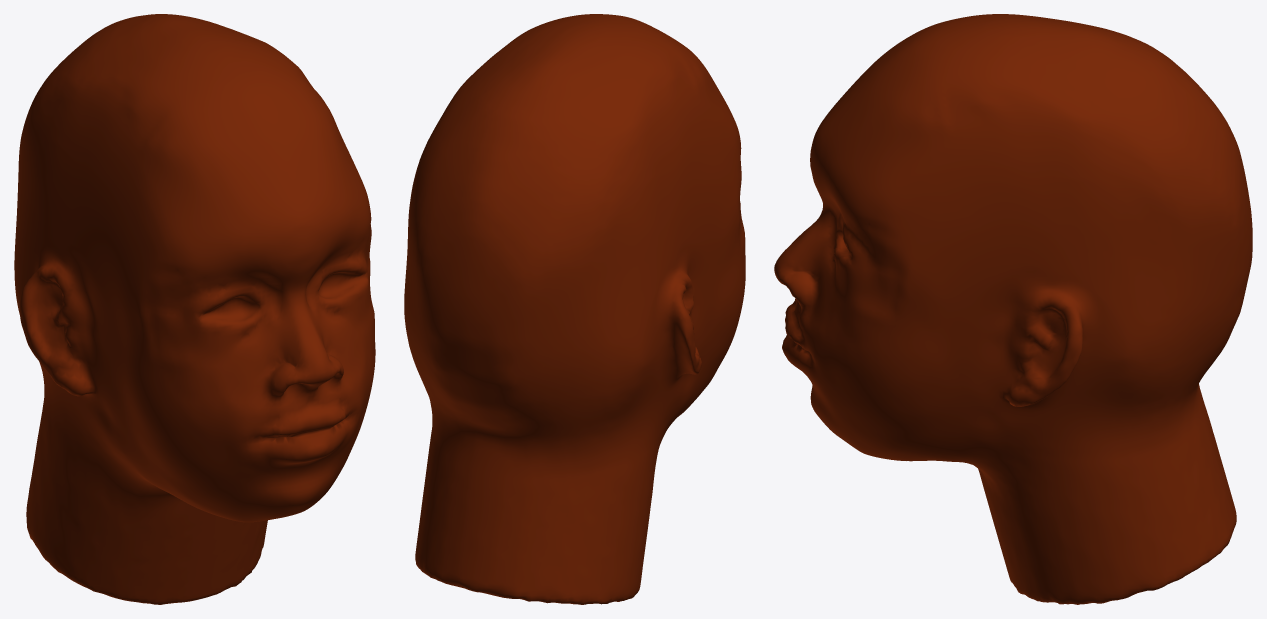
3 views of the same model, side by side, from view 1: azimuth 30°, elevation 25°; view 2: azimuth 150°, elevation 25°; view 3: azimuth 270°, elevation 25° (orthographic). The views are drawn at different scales.
Visible parts, largest first — view 1: tete.001; view 2: tete.001; view 3: tete.001.
Part boxes in pixels (box(x1,y1,x2,y2)): tete.001: box(14, 14, 375, 604); tete.001: box(404, 14, 745, 604); tete.001: box(774, 14, 1252, 604).
Bounding box in the file's own units: 2.02 × 3.62 × 2.86.
